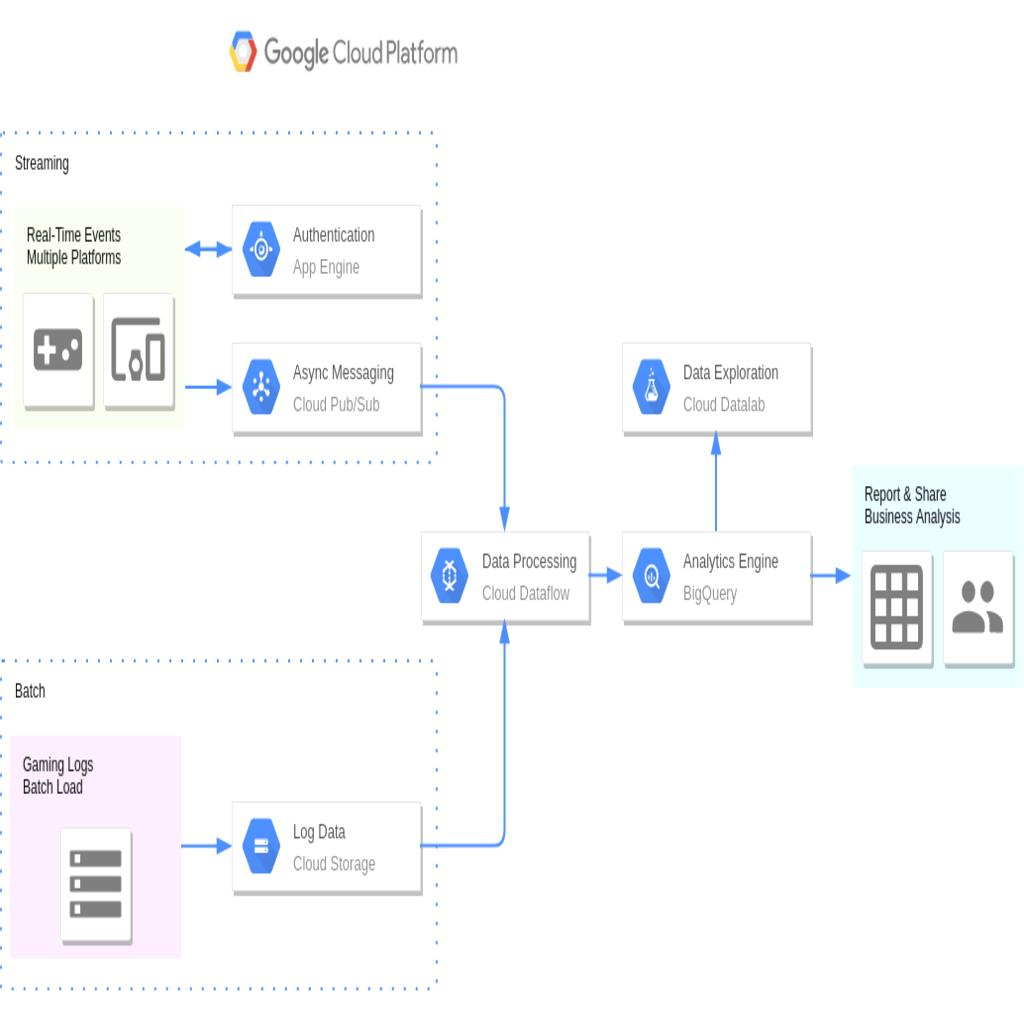actor: (6, 204, 178, 427), (850, 467, 1022, 690), (6, 734, 178, 956)
api_gateway: (232, 342, 421, 432)
compute: (622, 342, 812, 432), (232, 206, 421, 296), (428, 534, 600, 624)
data_flow: (714, 432, 720, 532), (502, 385, 506, 524), (502, 637, 506, 776), (420, 384, 504, 390), (420, 842, 504, 848), (184, 248, 232, 254), (184, 384, 232, 390), (184, 842, 222, 848), (811, 576, 850, 581), (586, 576, 622, 581)
database_storage: (622, 534, 812, 624), (232, 800, 421, 890)
trust_boundary: (208, 5, 830, 1019), (0, 659, 436, 990), (0, 130, 436, 460)
